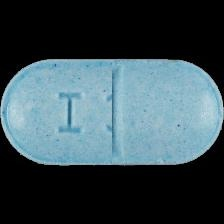23155-058: (0, 0, 224, 224)
